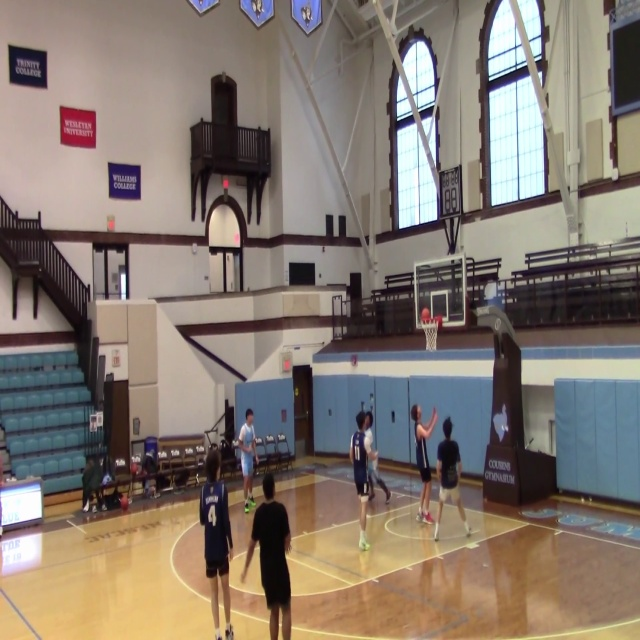Basketball: (411, 405, 421, 420), (421, 308, 430, 323), (433, 315, 443, 328)
